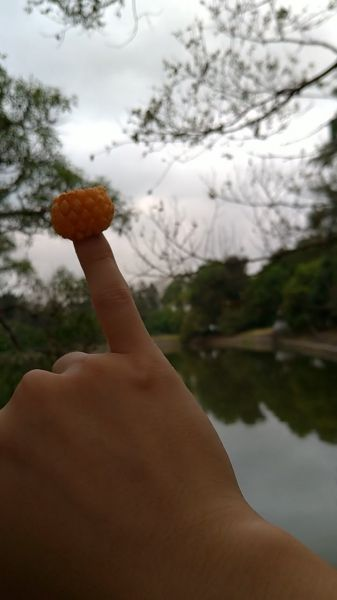eggs: (50, 189, 115, 239)
